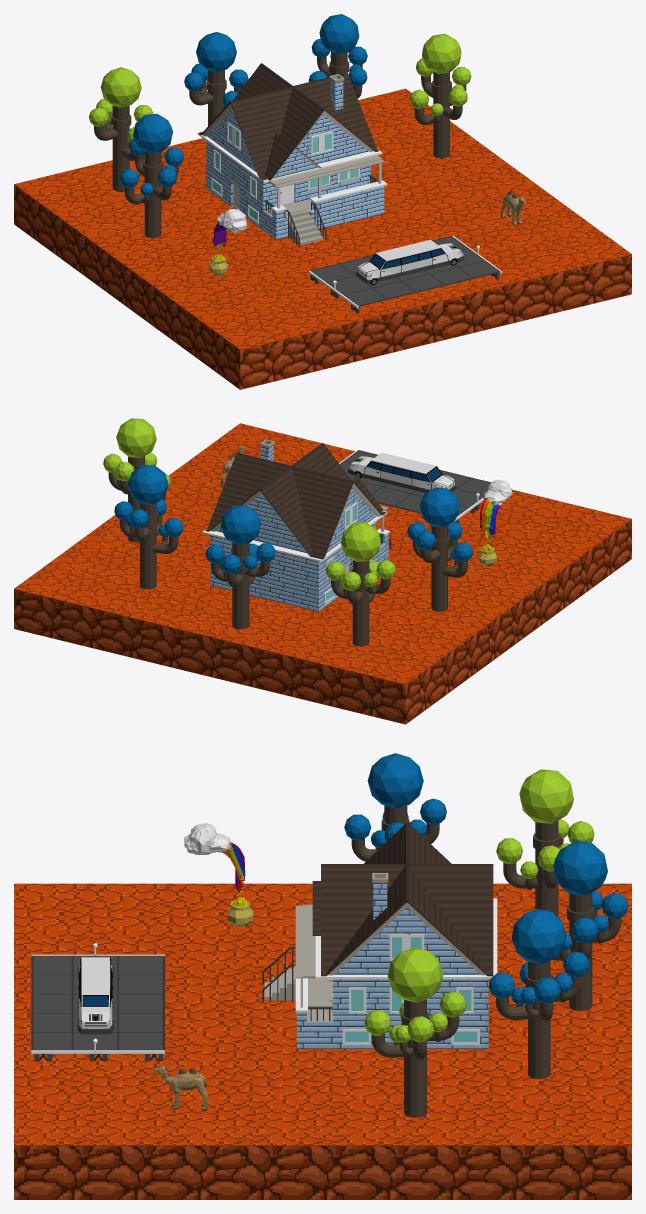
3 views of the same model, one above another, from view 1: azimuth 30°, elevation 25°; view 2: azimuth 150°, elevation 25°; view 3: azimuth 270°, elevation 25° (orthographic). The views are drawn at different scales.
Visible parts, largest first — view 1: Cube.001, Cube.547, VEHICLES_LIMOUSINE, OBJRANDOM_RAINBOW, ANIMAL_CAMELLO; view 2: Cube.001, Cube.547, VEHICLES_LIMOUSINE, OBJRANDOM_RAINBOW; view 3: Cube.001, Cube.547, VEHICLES_LIMOUSINE, OBJRANDOM_RAINBOW, ANIMAL_CAMELLO.
Boxes of the visible parts, x1,y1,x2,y2 form: Cube.001: (14,14,631,389); Cube.547: (197,63,387,246); VEHICLES_LIMOUSINE: (355,239,464,285); OBJRANDOM_RAINBOW: (209,209,247,276); ANIMAL_CAMELLO: (501,191,525,225); Cube.001: (14,418,631,724); Cube.547: (202,439,391,611); VEHICLES_LIMOUSINE: (348,452,456,492); OBJRANDOM_RAINBOW: (478,479,512,566); Cube.001: (14,753,631,1199); Cube.547: (262,823,497,1048); VEHICLES_LIMOUSINE: (77,957,113,1034); OBJRANDOM_RAINBOW: (184,823,253,926); ANIMAL_CAMELLO: (153,1064,207,1111).
Size of the model in its own units: 4000 by 1765 by 4000.
38 materials, 5 textured.
